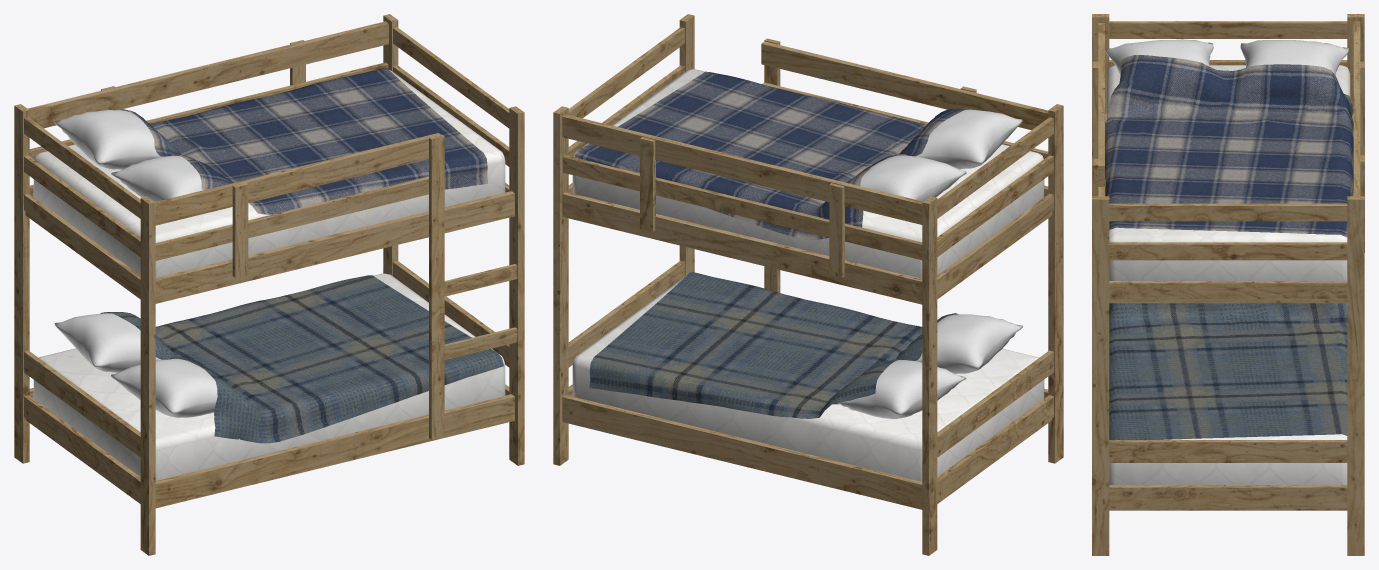
Rendered from simple_bunk_bed.glb.
The picture shows the model from 3 angles, left to right: view 1: azimuth 30°, elevation 25°; view 2: azimuth 150°, elevation 25°; view 3: azimuth 270°, elevation 25°; orthographic projection.
Parts seen in each view (by area): view 1: Object_2, Object_3, Object_4, Object_8, Object_5, Object_6, Object_7; view 2: Object_2, Object_3, Object_4, Object_8, Object_5, Object_6, Object_7; view 3: Object_2, Object_4, Object_3, Object_5, Object_8, Object_7.
Boxes of the visible parts, bbox=[...] form: Object_2: bbox=[14, 14, 524, 555]; Object_3: bbox=[100, 275, 503, 443]; Object_4: bbox=[119, 68, 488, 214]; Object_8: bbox=[33, 273, 505, 480]; Object_5: bbox=[33, 70, 505, 277]; Object_6: bbox=[54, 313, 217, 417]; Object_7: bbox=[54, 110, 203, 201]; Object_2: bbox=[553, 14, 1063, 555]; Object_3: bbox=[589, 272, 958, 418]; Object_4: bbox=[574, 71, 976, 239]; Object_8: bbox=[572, 274, 1044, 481]; Object_5: bbox=[572, 69, 1044, 278]; Object_6: bbox=[837, 314, 1022, 418]; Object_7: bbox=[860, 109, 1022, 201]; Object_2: bbox=[1092, 14, 1364, 555]; Object_4: bbox=[1105, 55, 1353, 237]; Object_3: bbox=[1109, 303, 1347, 439]; Object_5: bbox=[1106, 65, 1350, 280]; Object_8: bbox=[1109, 303, 1347, 484]; Object_7: bbox=[1105, 39, 1348, 74].
Bounding box in the file's own units: 17.2 × 15.4 × 10.69.
Materials: 7 (7 with a texture image).
